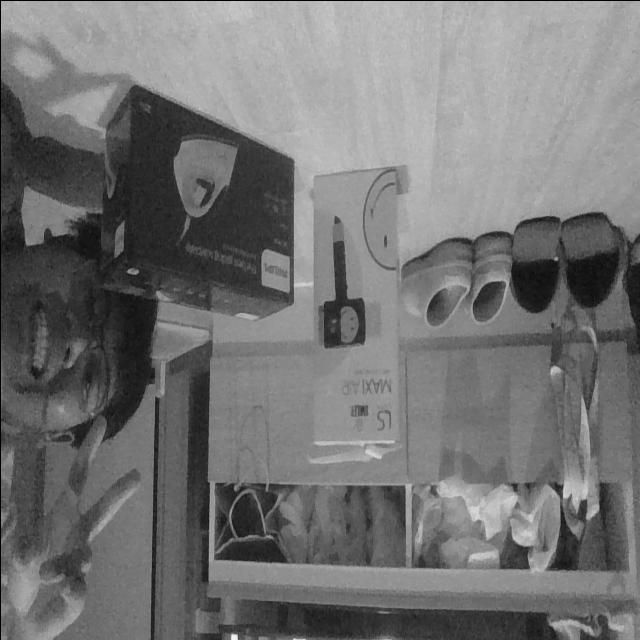Dryer: (307, 164, 403, 464)
IRON: (96, 80, 296, 327)
